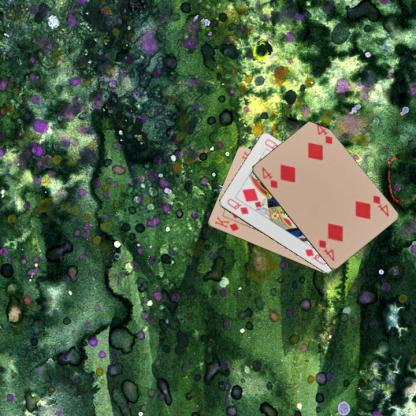4d: (370, 192, 390, 218), (259, 164, 278, 190)
Kd: (212, 214, 240, 232)
Qd: (224, 196, 250, 216)
